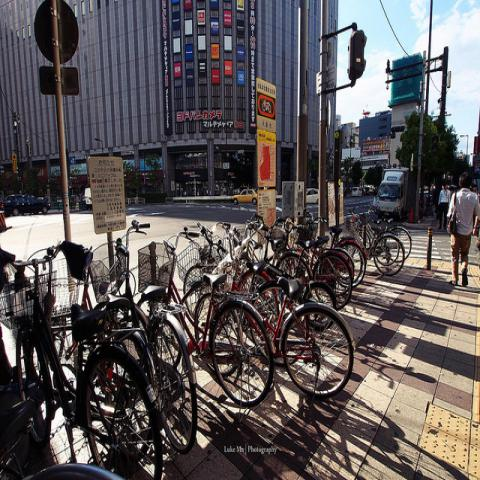car: (231, 186, 258, 207), (352, 187, 363, 197)
truck: (376, 163, 408, 220)
